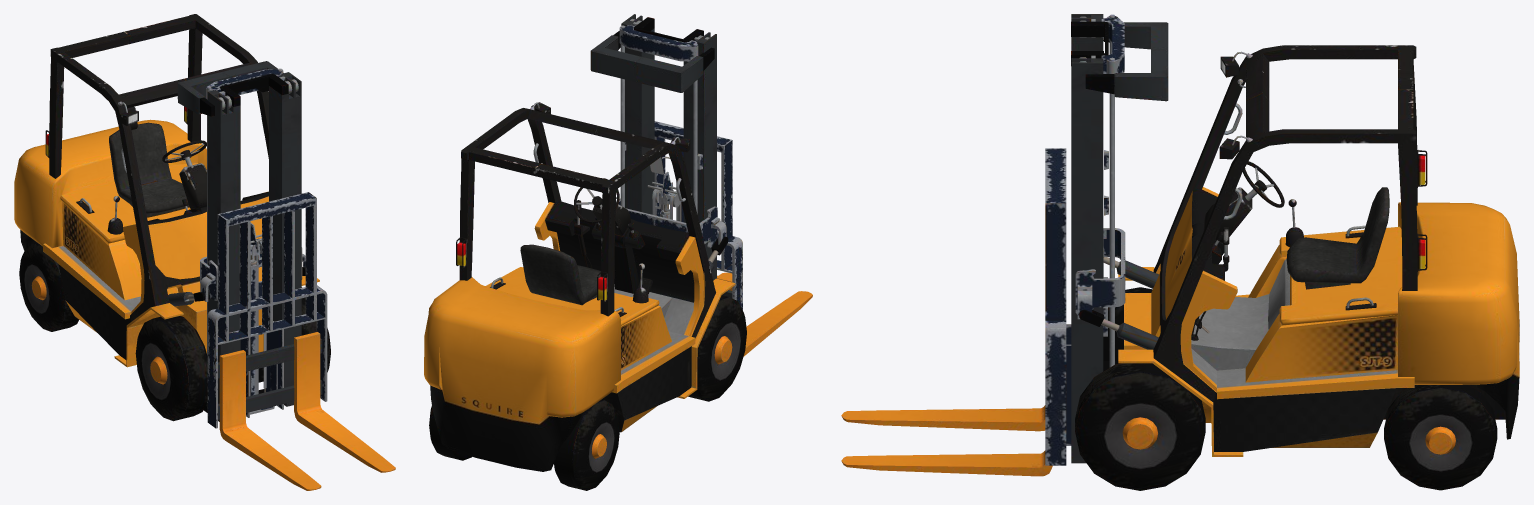
The model's file is forklift.glb.
3 renders of one model, left to right at view 1: azimuth 30°, elevation 25°; view 2: azimuth 150°, elevation 25°; view 3: azimuth 270°, elevation 25°, orthographic. The views are drawn at different scales.
Parts seen in each view (by area): view 1: ForkLift_ForkLift_01_0; view 2: ForkLift_ForkLift_01_0; view 3: ForkLift_ForkLift_01_0.
Part boxes in pixels (<box>): ForkLift_ForkLift_01_0: <box>14,14,395,490</box>; ForkLift_ForkLift_01_0: <box>424,14,812,490</box>; ForkLift_ForkLift_01_0: <box>841,14,1519,490</box>.
Bounding box in the file's own units: 1.31 × 2.58 × 3.86.
1 material, 1 textured.
